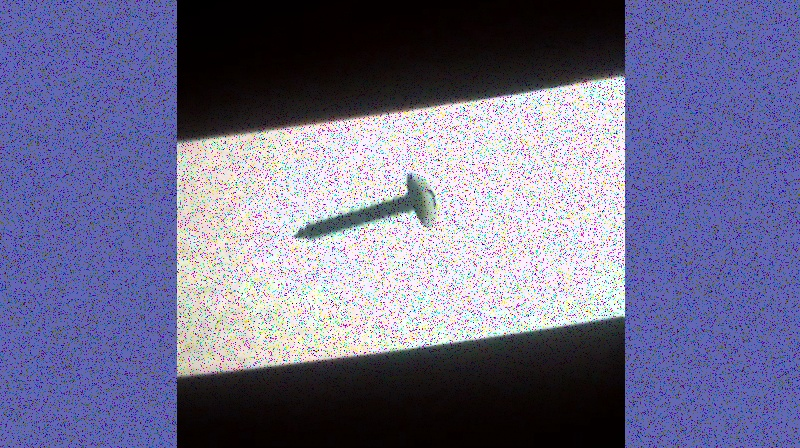S003: (290, 168, 443, 240)
